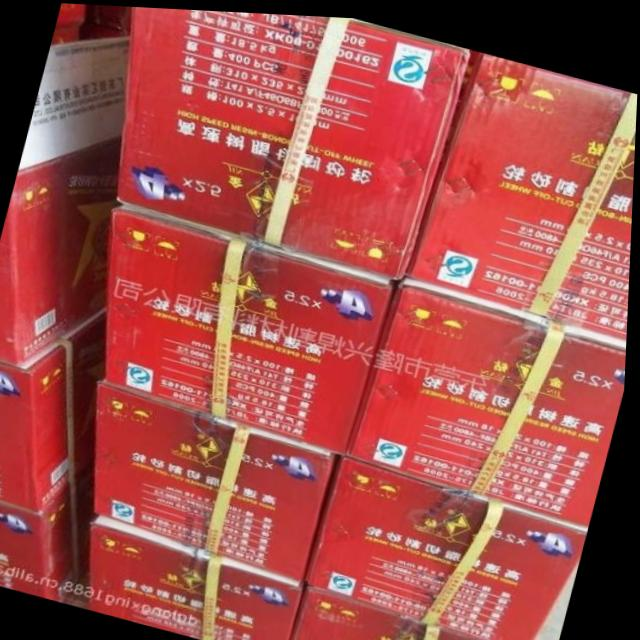box: (111, 5, 469, 274), (107, 201, 400, 449), (399, 45, 638, 342), (353, 278, 629, 518), (312, 450, 592, 640), (99, 377, 340, 579), (0, 53, 126, 364), (91, 513, 310, 640), (0, 308, 106, 511), (293, 577, 513, 640), (0, 484, 98, 601), (47, 3, 131, 69)
